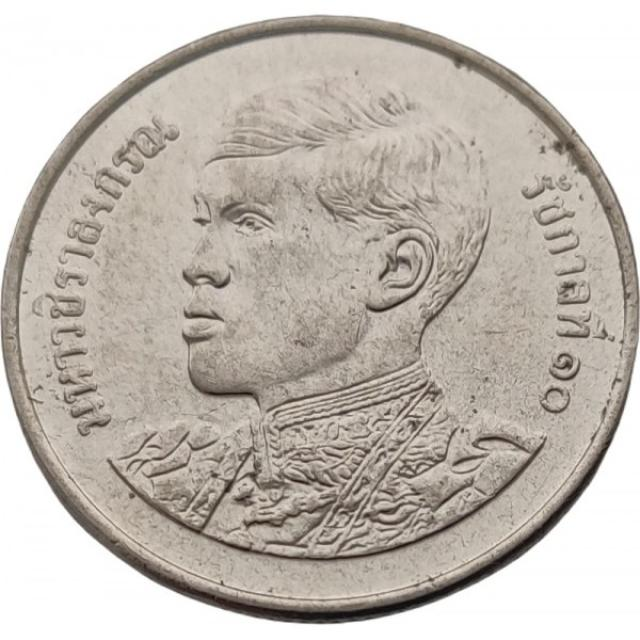1 Bath: (1, 19, 639, 633)
